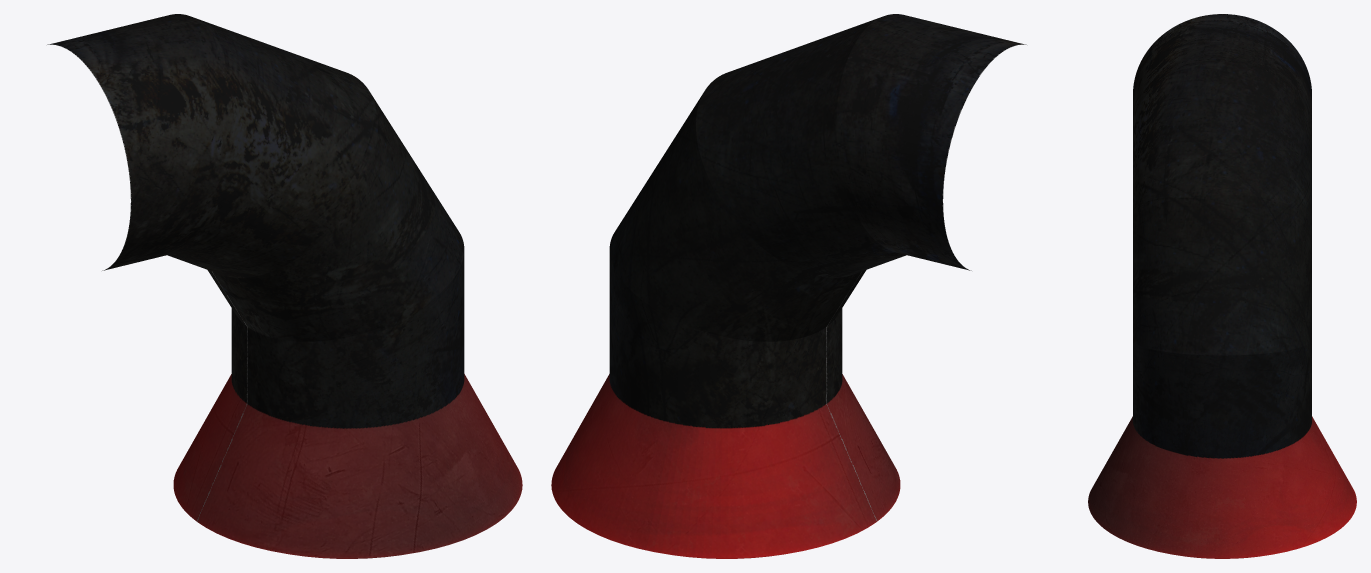
3 views of the same model, side by side, from view 1: azimuth 30°, elevation 25°; view 2: azimuth 150°, elevation 25°; view 3: azimuth 270°, elevation 25° (orthographic). The views are drawn at different scales.
Visible parts, largest first — view 1: Elbow Joint; view 2: Elbow Joint; view 3: Elbow Joint.
Boxes of the visible parts, x1,y1,x2,y2 form: Elbow Joint: [47, 14, 522, 558]; Elbow Joint: [551, 14, 1026, 558]; Elbow Joint: [1088, 14, 1356, 558].
Bounding box in the file's own units: 4.23 × 4.79 × 3.
1 material, 1 textured.
